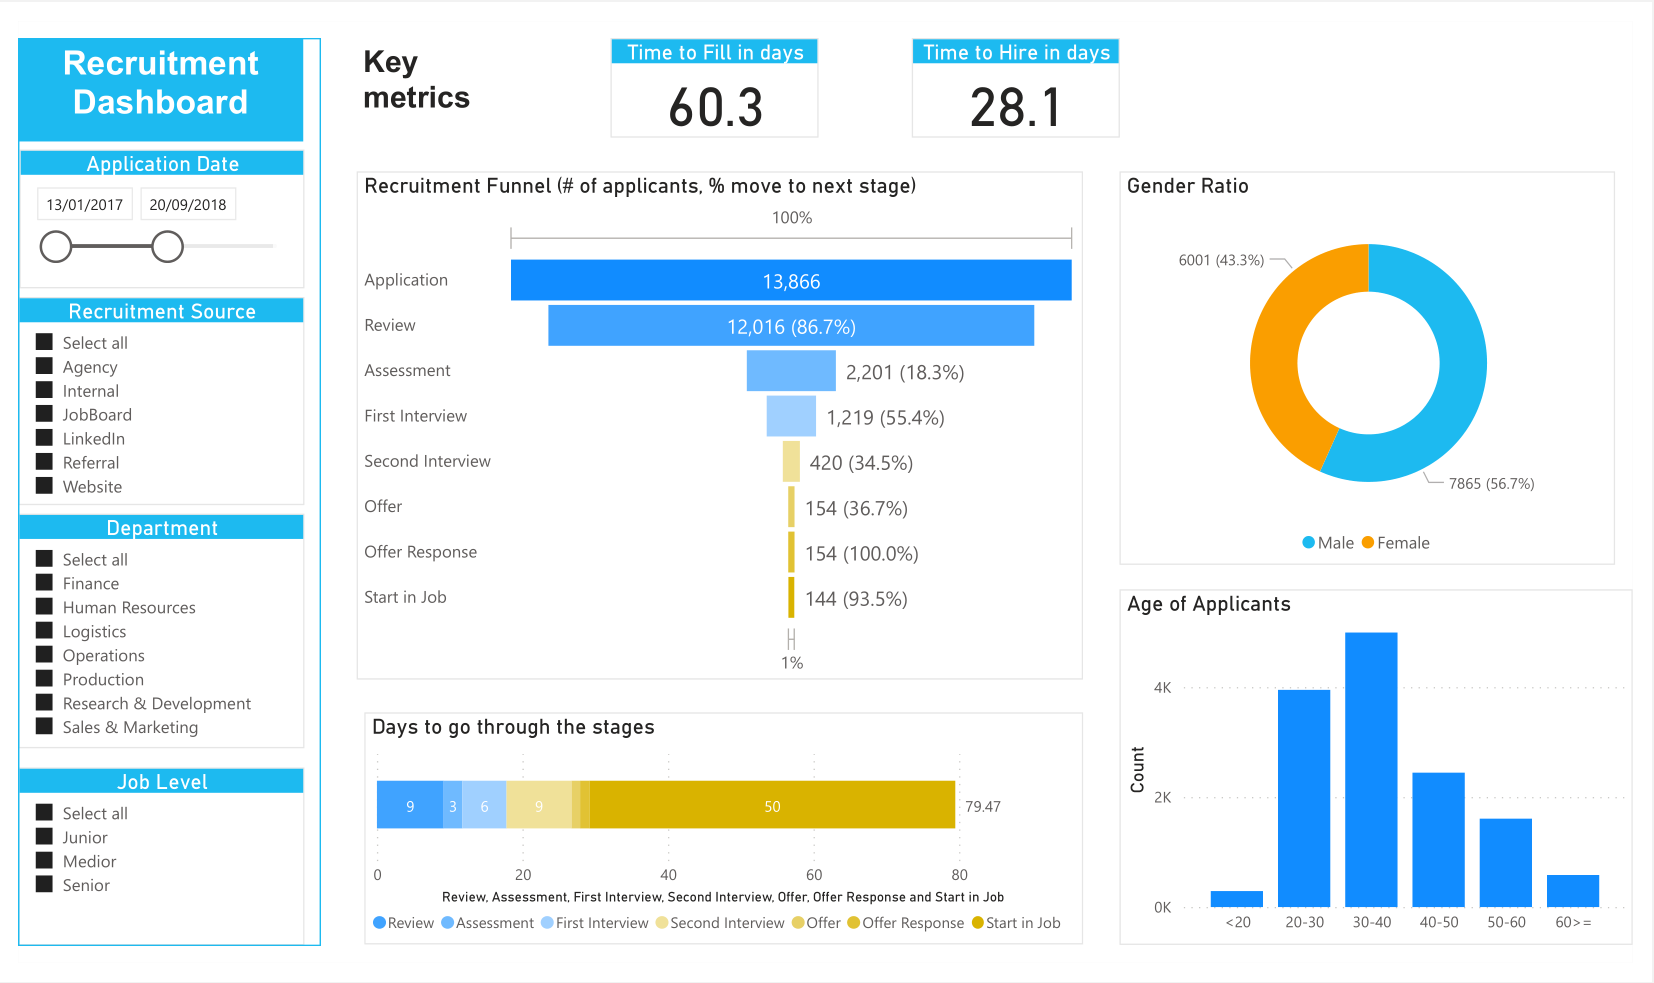

The page's visual inventory and layout, read from the dashboard file:
{"tool":"powerbi","page":{"name":"Page 1","canvas":[1280,720],"ordinal":0},"visuals":[{"type":"funnel","title":"Recruitment Funnel (# of applicants, % move to next stage)","fields":{"Category":["applications_long.stage_name"],"Y":["CountNonNull(applications_long.stage_date)"]},"box":[268.4,105.7,576.5,402.6],"z":0},{"type":"slicer","title":"Application Date","fields":{"Values":["applications.f0_application_date"]},"box":[1,88.5,225.7,109.8],"z":1000},{"type":"slicer","title":"Recruitment Source","fields":{"Values":["candidates.source"]},"box":[0,205.4,226.7,164.7],"z":2000},{"type":"slicer","title":"Department","fields":{"Values":["job-postings.department"]},"box":[0,377.2,226.7,186.1],"z":3000},{"type":"slicer","title":"Job Level","fields":{"Values":["job-postings.job_level"]},"box":[0,578.5,226.7,141.3],"z":4000},{"type":"barChart","title":"Days to go through the stages","fields":{"Y":["Avg(applications.time_in_f1_review)","Avg(applications.time_in_f2_assessment)","Avg(applications.time_in_f3_interview)","Avg(applications.time_in_f4_interview)","Avg(applications.time_in_f5_offer)","Avg(applications.time_in_f6_response)","Avg(applications.time_in_f6_start)"]},"box":[274.5,534.8,570.4,184],"z":5000},{"type":"card","title":"Time to Hire in days","fields":{"Values":["Avg(job-postings.time_to_hire)"]},"box":[708.6,0,164.7,79.3],"z":6000},{"type":"card","title":"Time to Fill in days","fields":{"Values":["Avg(job-postings.time_to_fill)"]},"box":[469.7,0,164.7,79.3],"z":7000},{"type":"donutChart","title":"Gender Ratio","fields":{"Y":["CountNonNull(candidates.gender)"],"Category":["candidates.gender"]},"box":[873.3,105.7,393.5,312.1],"z":8000},{"type":"columnChart","title":"Age of Applicants","fields":{"Category":["candidates.age_group"],"Y":["CountNonNull(candidates.age_group)"]},"box":[873.3,437.2,406.7,281.6],"z":9000},{"type":"shape","box":[0,0,239.9,719.8],"z":10000},{"type":"textbox","box":[0,0,225.7,82.4],"z":11000},{"type":"textbox","box":[268.4,0,127.1,67.1],"z":11001}]}

Visuals, with their boxes on the page's 1280x720 design canvas (x1, y1, x2, y2). These are canvas units, not pixel positions in the 1654x983 screenshot, which may show the page scaled, cropped or inside an application window:
"Recruitment Funnel (# of applicants, % move to next stage)" funnel: 268 106 845 508
"Application Date" slicer: 1 88 227 198
"Recruitment Source" slicer: 0 205 227 370
"Department" slicer: 0 377 227 563
"Job Level" slicer: 0 578 227 720
"Days to go through the stages" barChart: 274 535 845 719
"Time to Hire in days" card: 709 0 873 79
"Time to Fill in days" card: 470 0 634 79
"Gender Ratio" donutChart: 873 106 1267 418
"Age of Applicants" columnChart: 873 437 1280 719
shape: 0 0 240 720
textbox: 0 0 226 82
textbox: 268 0 396 67
